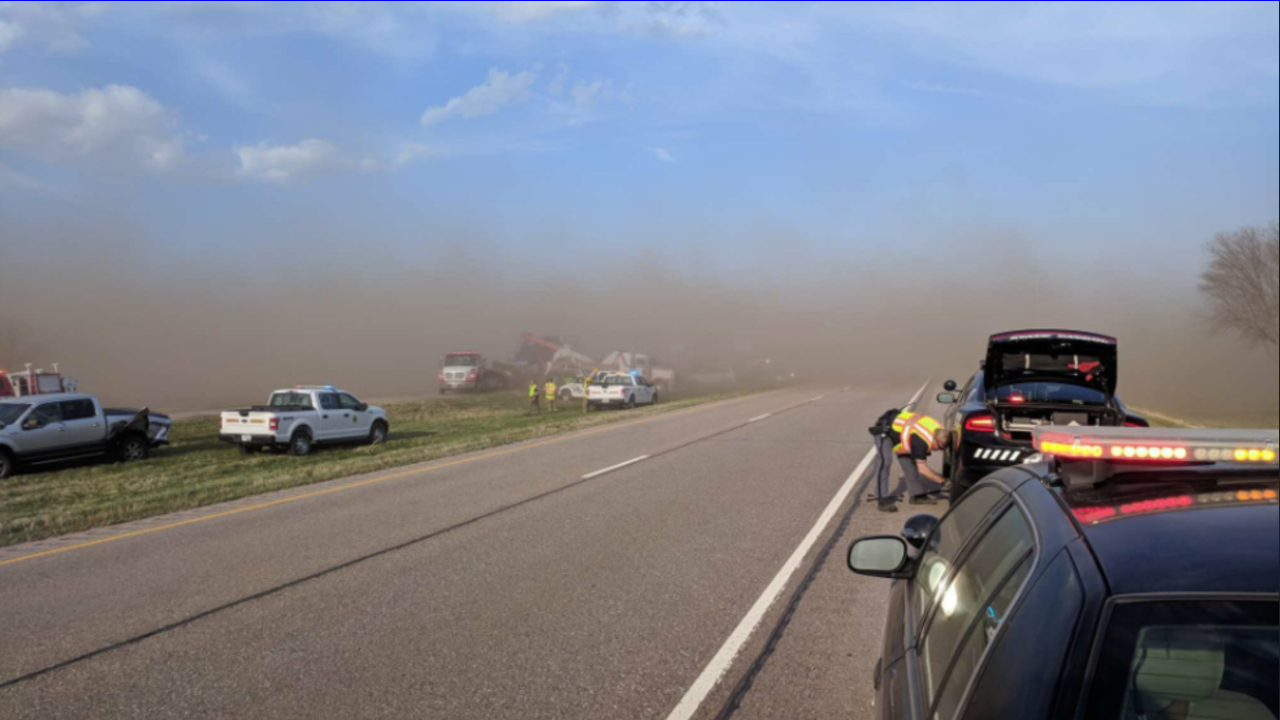car: (853, 441, 1279, 719), (945, 327, 1164, 507), (586, 369, 656, 406), (687, 363, 734, 385), (561, 374, 585, 401)
person: (870, 402, 958, 508), (526, 377, 542, 419), (543, 378, 561, 415)
truck: (2, 391, 172, 482), (220, 386, 394, 456), (528, 333, 676, 389), (439, 349, 516, 389)
